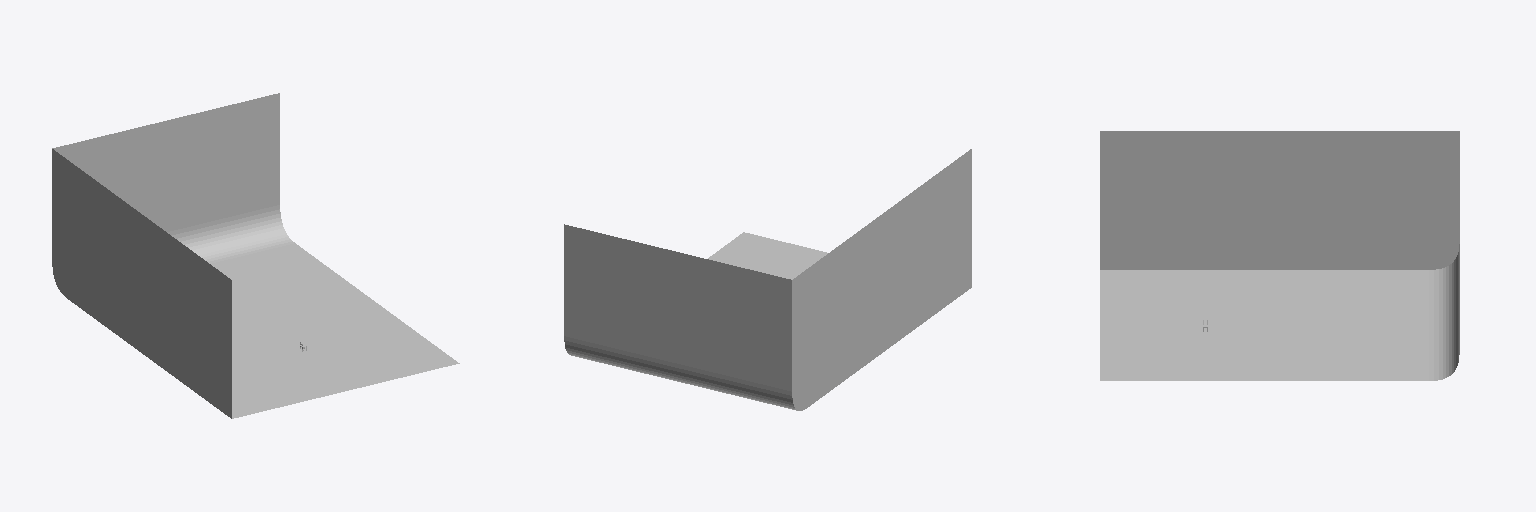
Rendered from chair.obj.
3 renders of one model, left to right at view 1: azimuth 30°, elevation 25°; view 2: azimuth 150°, elevation 25°; view 3: azimuth 270°, elevation 25°, orthographic.
Parts seen in each view (by area): view 1: Studio; view 2: Studio; view 3: Studio.
Part boxes in pixels (bbox=[...]): Studio: bbox=[52, 93, 459, 418]; Studio: bbox=[564, 149, 971, 410]; Studio: bbox=[1100, 131, 1459, 380].
Size of the model in its own units: 6849 by 3997 by 9343.